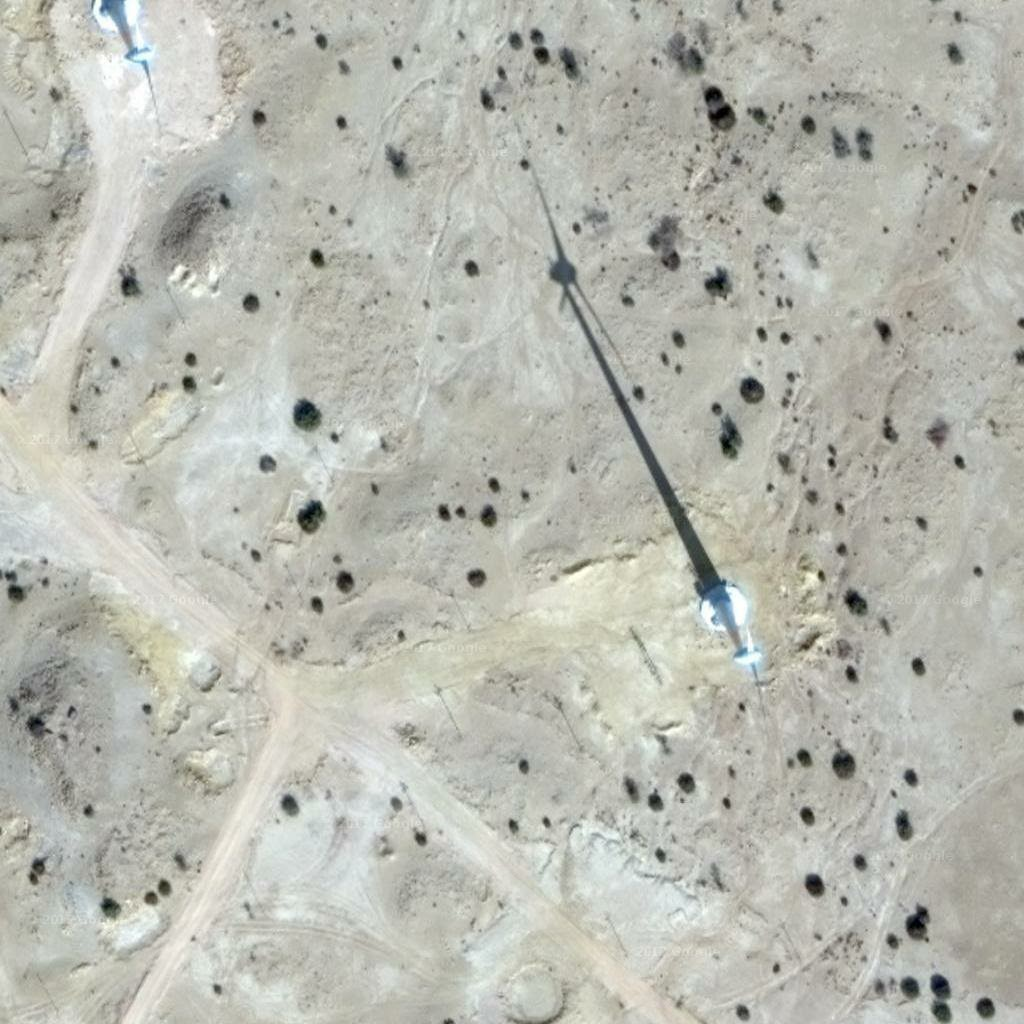Windmill: (494, 125, 738, 580)
